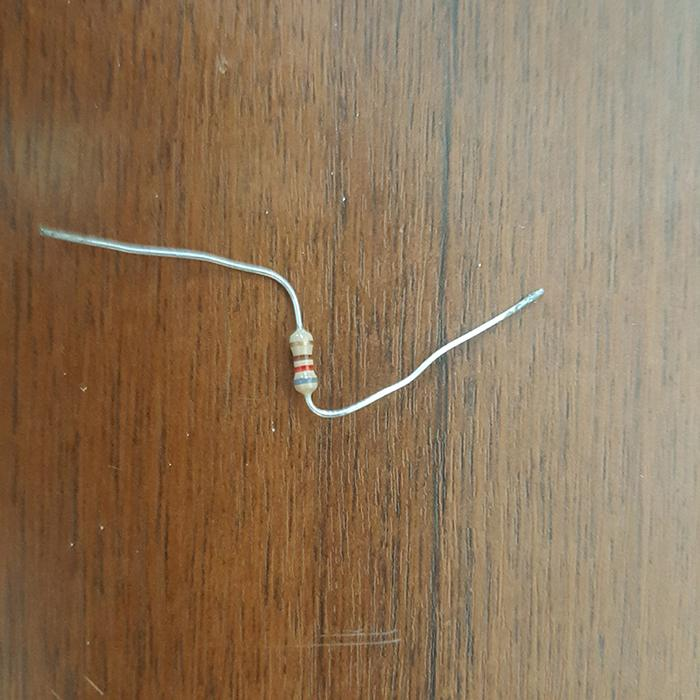resistor: (288, 328, 318, 396)
